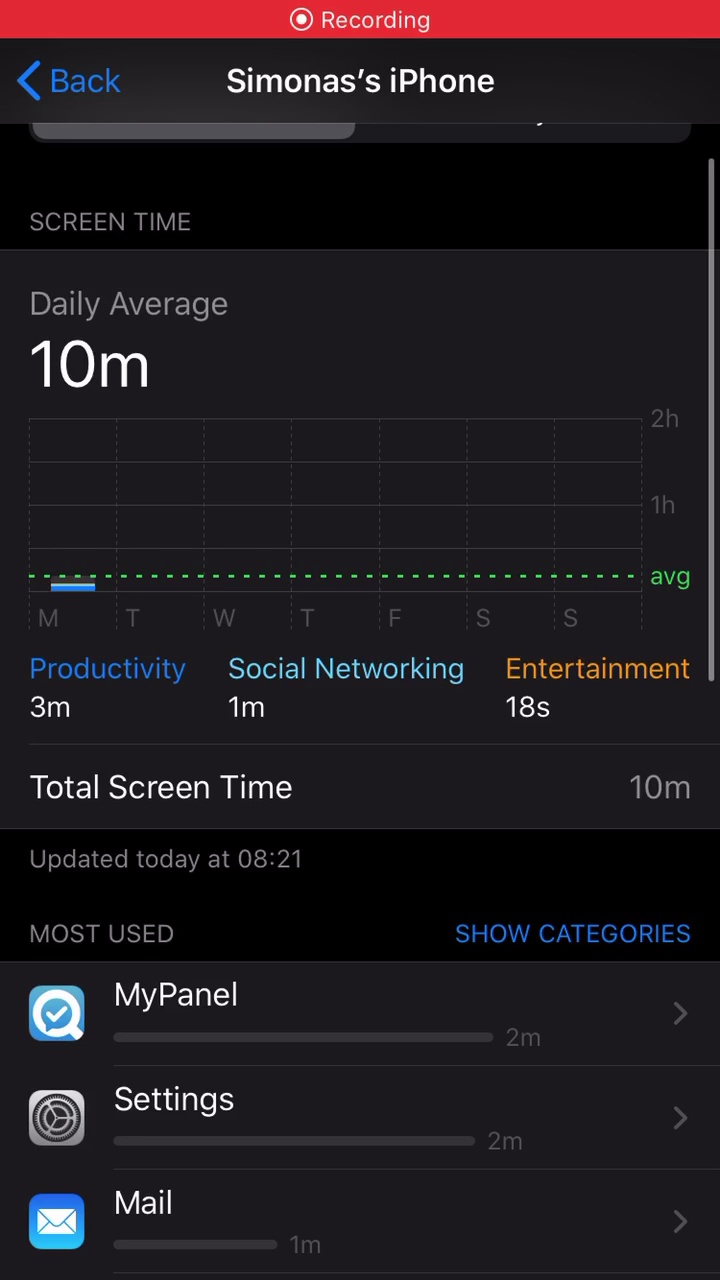use_over: (14, 649, 706, 814)
